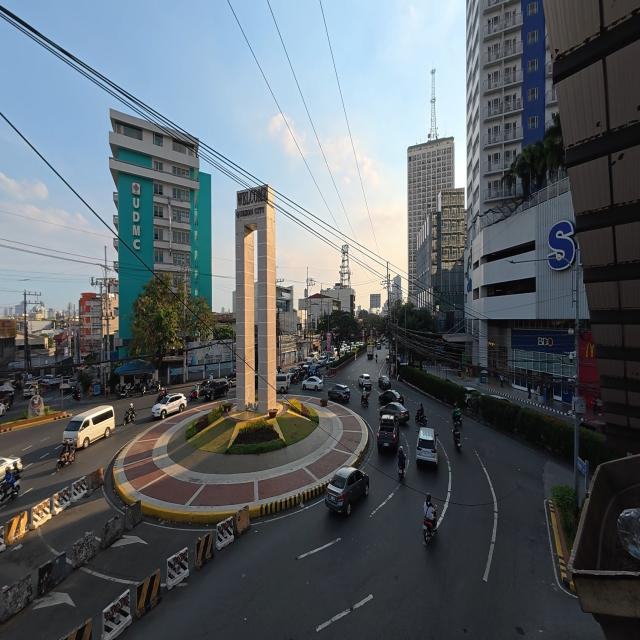car: (325, 467, 369, 515), (152, 394, 186, 419), (416, 427, 437, 466), (201, 378, 228, 401), (380, 402, 409, 423), (0, 456, 22, 477), (328, 384, 350, 402), (379, 389, 404, 404), (302, 376, 324, 390), (465, 387, 481, 403), (359, 373, 371, 388), (379, 376, 391, 390), (490, 395, 511, 403), (225, 373, 236, 388), (61, 378, 73, 391), (309, 364, 321, 376), (318, 356, 327, 366), (0, 401, 6, 415), (327, 356, 335, 366), (386, 354, 389, 362)
motorcycle: (0, 472, 20, 504), (423, 505, 437, 544), (56, 449, 74, 471), (130, 381, 146, 395), (123, 408, 135, 425), (452, 430, 461, 451), (146, 380, 160, 392), (415, 413, 427, 425), (117, 386, 129, 398), (156, 390, 166, 403), (72, 388, 82, 401), (190, 389, 200, 400), (453, 416, 462, 428), (398, 466, 405, 481), (361, 395, 368, 407), (376, 355, 377, 363)
trucks: (377, 414, 399, 452), (367, 344, 373, 359)
vans: (63, 406, 114, 448), (276, 374, 290, 394), (22, 382, 38, 398)
